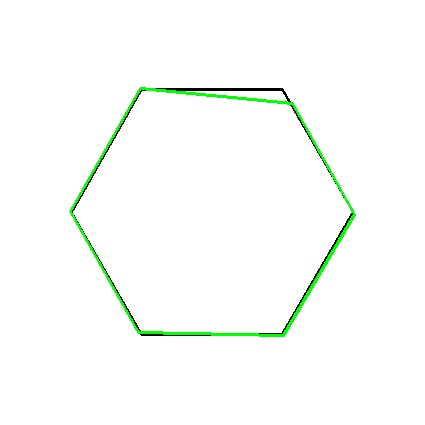line_segment: (70, 87, 355, 337)
